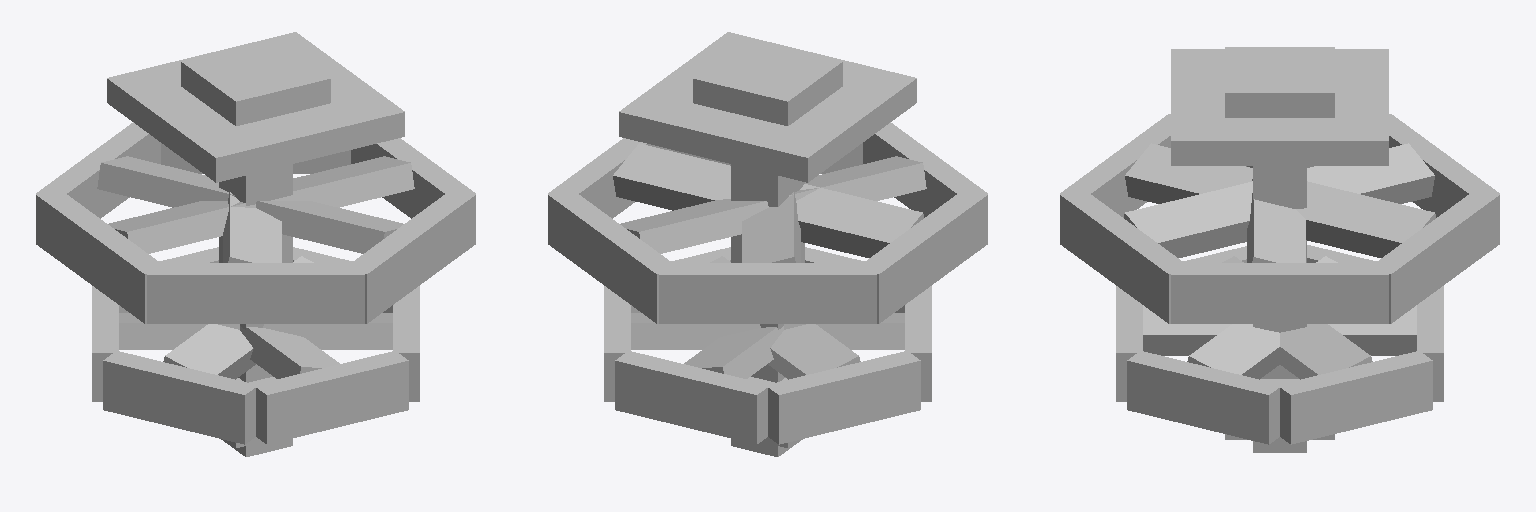
Rendered from electricTurbineSmall.obj.
The picture shows the model from 3 angles: view 1: azimuth 30°, elevation 25°; view 2: azimuth 150°, elevation 25°; view 3: azimuth 270°, elevation 25°; orthographic projection.
Parts seen in each view (by area): view 1: Support.001, MediumShield3, Shield1, Shield4, Plug, MediumBlade2, MediumBlade3, MediumShield5, MediumShield4, Blade3, MediumShield2, MediumShield1 (+8 smaller); view 2: Support.001, MediumShield2, MediumBlade3, Shield3, Shield2, Plug, MediumBlade1, MediumShield5, MediumShield6, Blade2, MediumShield3, Blade3 (+8 smaller); view 3: Support.001, MediumShield1, MediumBlade1, MediumBlade2, Shield6, Shield5, MediumShield6, Plug, MediumShield4, Blade1, Blade3, Blade2 (+7 smaller).
Part boxes in pixels (left/top/right/bottom): Support.001: left=107, top=32, right=404, bottom=182; MediumShield3: left=147, top=263, right=364, bottom=323; Shield1: left=103, top=351, right=257, bottom=444; Shield4: left=256, top=351, right=408, bottom=444; Plug: left=181, top=39, right=330, bottom=125; MediumBlade2: left=97, top=156, right=403, bottom=253; MediumBlade3: left=108, top=156, right=414, bottom=253; MediumShield5: left=36, top=189, right=167, bottom=323; MediumShield4: left=345, top=193, right=475, bottom=323; Blade3: left=119, top=313, right=392, bottom=349; MediumShield2: left=36, top=122, right=160, bottom=218; MediumShield1: left=351, top=138, right=475, bottom=218; Support.001: left=619, top=32, right=916, bottom=182; MediumShield2: left=659, top=263, right=876, bottom=323; MediumBlade3: left=613, top=143, right=923, bottom=257; Shield3: left=768, top=351, right=920, bottom=444; Shield2: left=615, top=351, right=769, bottom=444; Plug: left=693, top=39, right=842, bottom=125; MediumBlade1: left=620, top=156, right=926, bottom=253; MediumShield5: left=860, top=189, right=987, bottom=323; MediumShield6: left=548, top=189, right=671, bottom=323; Blade2: left=631, top=313, right=904, bottom=349; MediumShield3: left=863, top=122, right=987, bottom=217; Blade3: left=710, top=256, right=860, bottom=379; Support.001: left=1171, top=49, right=1388, bottom=165; MediumShield1: left=1171, top=263, right=1388, bottom=323; MediumBlade1: left=1125, top=143, right=1435, bottom=257; MediumBlade2: left=1124, top=143, right=1434, bottom=257; Shield6: left=1127, top=351, right=1280, bottom=444; Shield5: left=1278, top=351, right=1432, bottom=444; MediumShield6: left=1368, top=191, right=1499, bottom=323; Plug: left=1225, top=47, right=1334, bottom=117; MediumShield4: left=1060, top=191, right=1183, bottom=323; Blade1: left=1143, top=305, right=1416, bottom=355; Blade3: left=1187, top=256, right=1337, bottom=379; Blade2: left=1222, top=256, right=1372, bottom=379.
Size of the model in its own units: 0.875 by 0.9375 by 1.01.